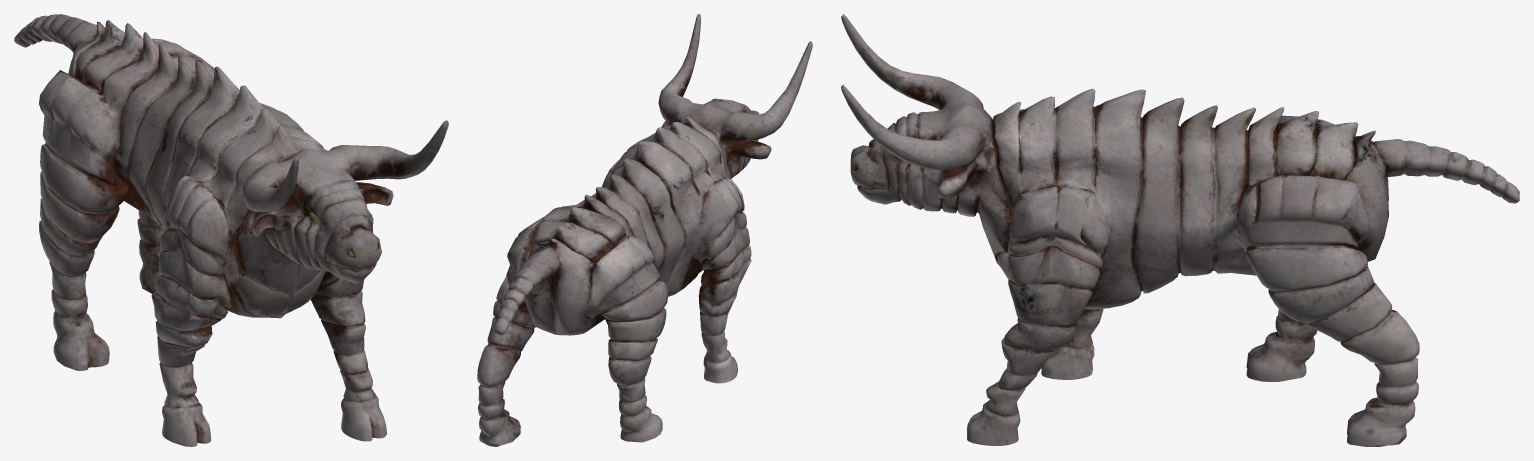
Rendered from MZ4250 - Gorgon.glb.
The picture shows the model from 3 angles, left to right: view 1: azimuth 30°, elevation 25°; view 2: azimuth 150°, elevation 25°; view 3: azimuth 270°, elevation 25°; orthographic projection. The views are drawn at different scales.
Visible parts, largest first — view 1: default; view 2: default; view 3: default.
Part boxes in pixels (x1,y1,x2,y2): default: (14, 14, 448, 446); default: (477, 14, 812, 446); default: (841, 14, 1519, 446).
Bounding box in the file's own units: 0.6079 × 1.15 × 1.98.
1 material, 1 textured.
